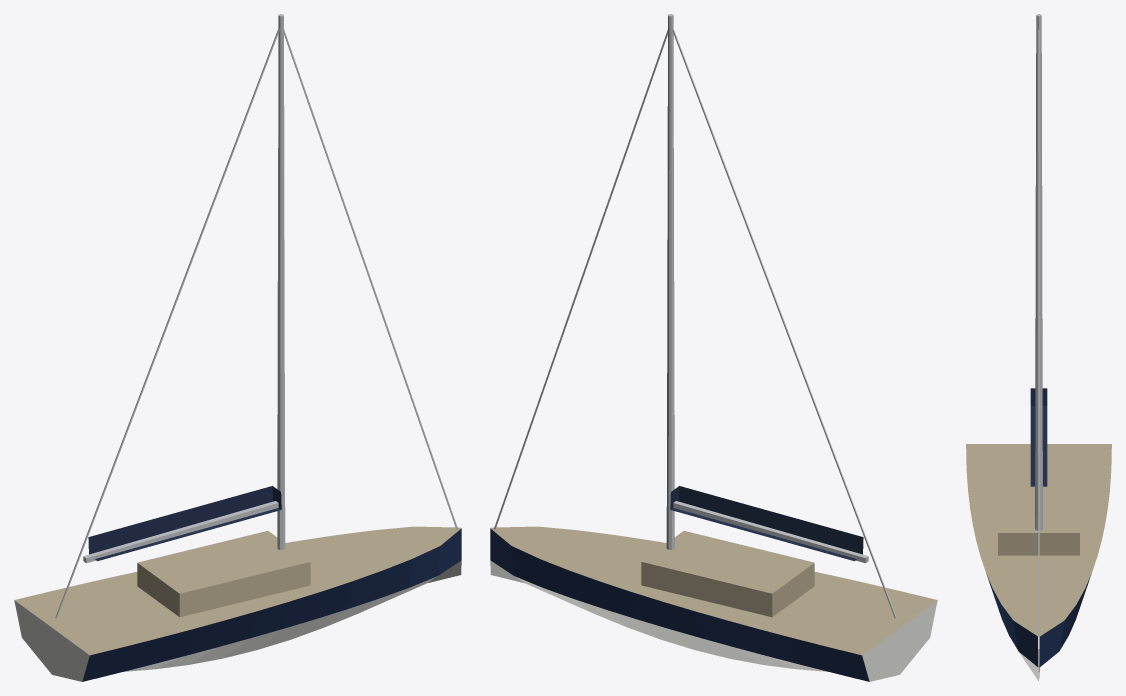
File: sailboat_moored.glb
3 views of the same model, side by side, from view 1: azimuth 30°, elevation 25°; view 2: azimuth 150°, elevation 25°; view 3: azimuth 270°, elevation 25° (orthographic). The views are drawn at different scales.
Visible parts, largest first — view 1: sailboat_moored; view 2: sailboat_moored; view 3: sailboat_moored.
Part boxes in pixels (box(x1,y1,x2,y2)): sailboat_moored: box(14, 14, 461, 681); sailboat_moored: box(490, 14, 937, 681); sailboat_moored: box(966, 14, 1111, 681).
Bounding box in the file's own units: 10 × 14.69 × 3.2.
Materials: 1 (1 with a texture image).
